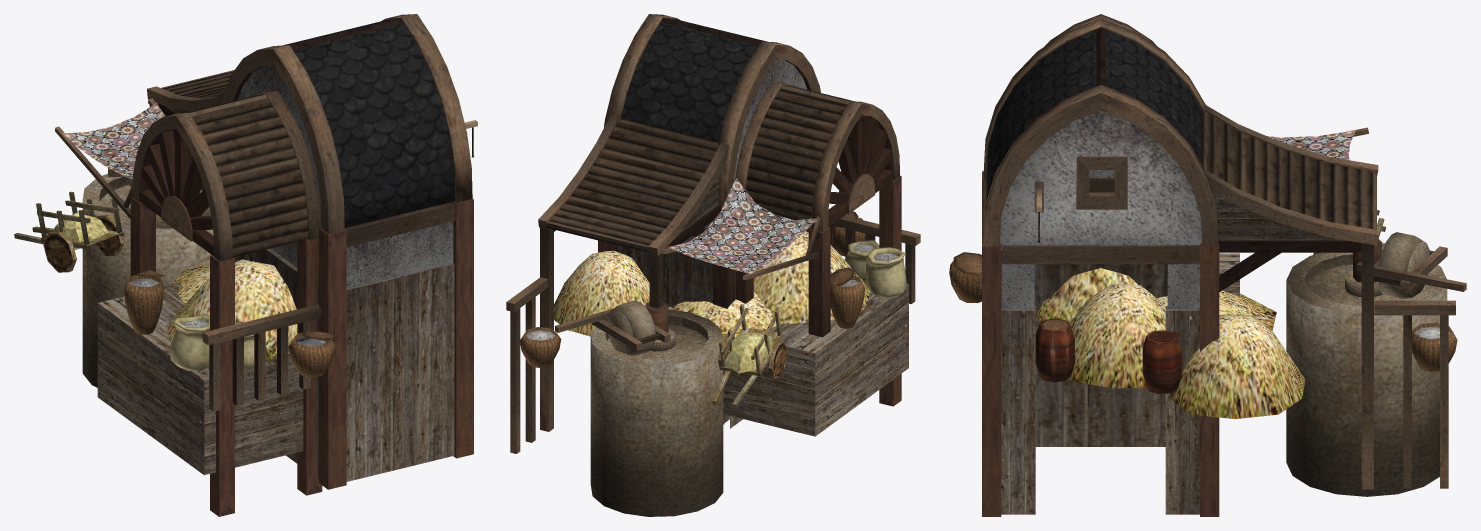
File: maur_farmstead.glb
3 renders of one model, left to right at view 1: azimuth 30°, elevation 25°; view 2: azimuth 150°, elevation 25°; view 3: azimuth 270°, elevation 25°, orthographic. The views are drawn at different scales.
Visible parts, largest first — view 1: maur_farmstead_part0, maur_farmstead_part1, maur_farmstead_part2, maur_farmstead_part3; view 2: maur_farmstead_part0, maur_farmstead_part1, maur_farmstead_part2, maur_farmstead_part3; view 3: maur_farmstead_part0, maur_farmstead_part1, maur_farmstead_part2.
Part boxes in pixels (x1,y1,x2,y2): maur_farmstead_part0: (55,14,477,516); maur_farmstead_part1: (82,173,213,387); maur_farmstead_part2: (166,259,297,360); maur_farmstead_part3: (14,191,124,272); maur_farmstead_part0: (506,14,920,453); maur_farmstead_part1: (590,300,723,516); maur_farmstead_part2: (554,231,870,337); maur_farmstead_part3: (712,304,786,407); maur_farmstead_part0: (949,14,1466,516); maur_farmstead_part1: (1286,232,1447,496); maur_farmstead_part2: (1036,268,1305,419).
Size of the model in its own units: 2.32 by 3 by 3.2.
Materials: 4 (4 with a texture image).
